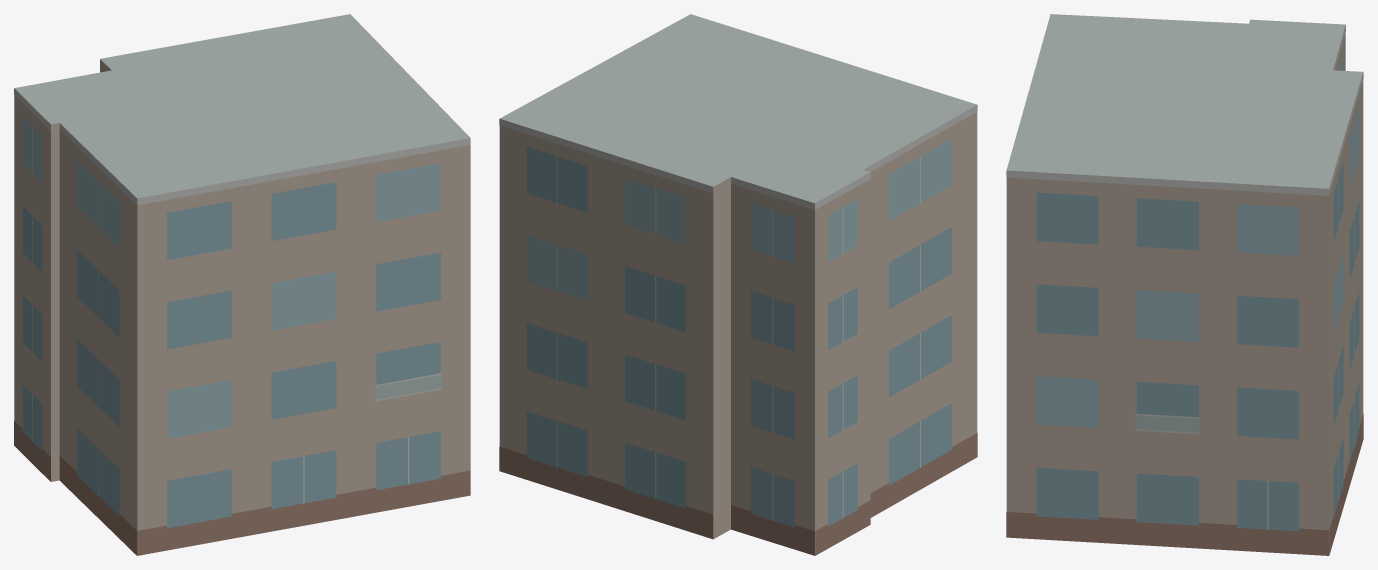
Rendered from survey-upis-32731859.glb.
3 views of the same model, side by side, from view 1: azimuth 30°, elevation 25°; view 2: azimuth 150°, elevation 25°; view 3: azimuth 270°, elevation 25° (orthographic). The views are drawn at different scales.
Visible parts, largest first — view 1: survey-upis-32731859.tmp; view 2: survey-upis-32731859.tmp; view 3: survey-upis-32731859.tmp.
Part boxes in pixels (box(x1,y1,x2,y2)): survey-upis-32731859.tmp: box(14, 14, 470, 555); survey-upis-32731859.tmp: box(499, 14, 977, 555); survey-upis-32731859.tmp: box(1006, 14, 1363, 555).
Size of the model in its own units: 13.03 by 12.75 by 11.25.
